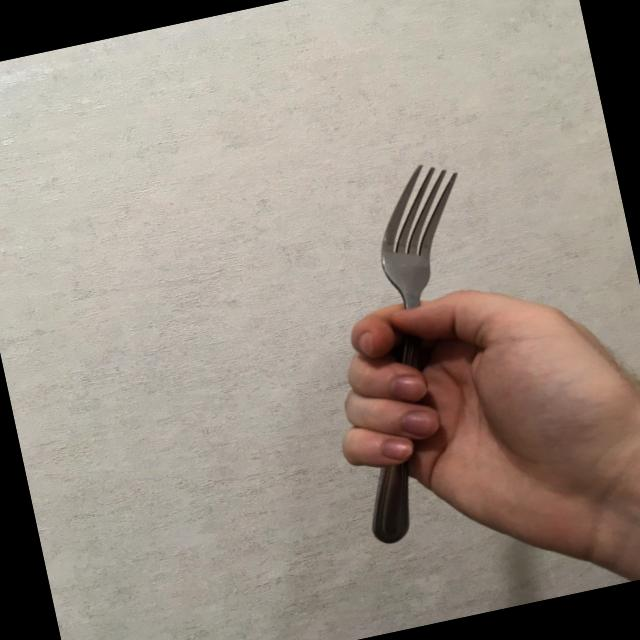fork: (302, 154, 532, 546)
